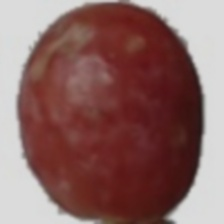grapes: (38, 16, 203, 171)
